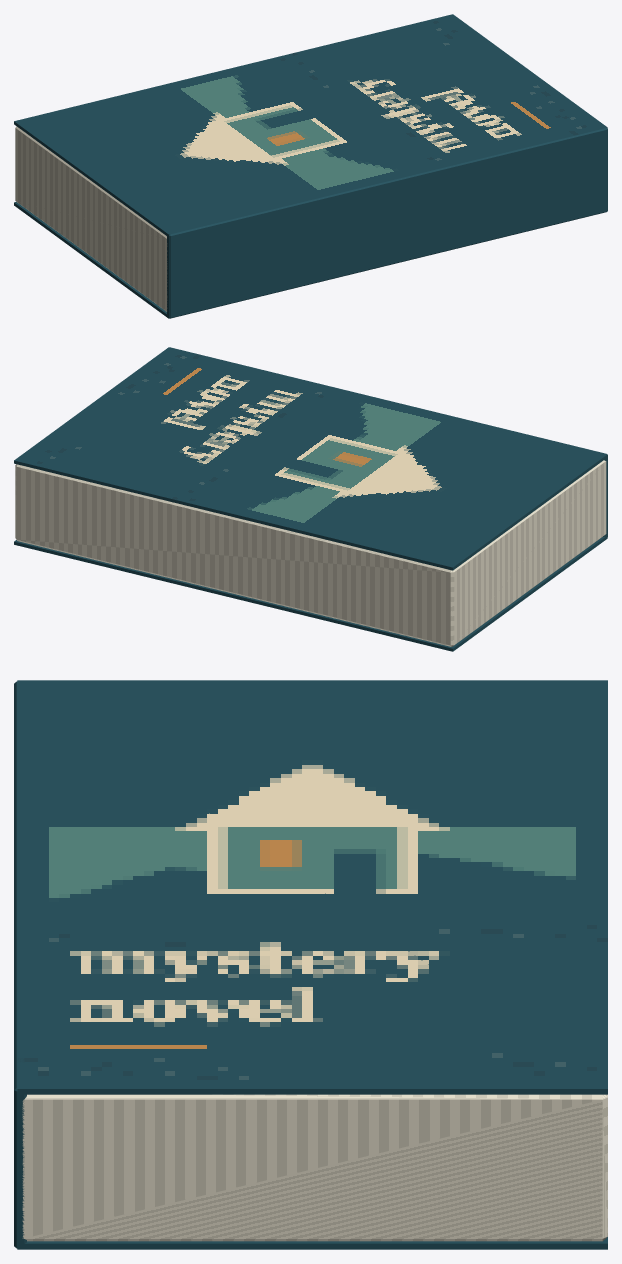
Rendered from novel_mystery.glb.
The picture shows the model from 3 angles, top to bottom: view 1: azimuth 30°, elevation 25°; view 2: azimuth 150°, elevation 25°; view 3: azimuth 270°, elevation 25°; orthographic projection. The views are drawn at different scales.
Parts seen in each view (by area): view 1: block_front, block_spine, block_pages, block_back; view 2: block_front, block_pages, block_back, block_spine; view 3: block_front, block_pages, block_spine, block_back.
Boxes of the visible parts, bbox=[...] form: block_front: bbox=[14, 14, 607, 237]; block_spine: bbox=[167, 128, 607, 318]; block_pages: bbox=[15, 126, 167, 311]; block_back: bbox=[14, 202, 607, 318]; block_front: bbox=[14, 347, 607, 570]; block_pages: bbox=[15, 460, 606, 646]; block_back: bbox=[14, 536, 607, 651]; block_spine: bbox=[168, 347, 607, 536]; block_front: bbox=[17, 680, 607, 1094]; block_pages: bbox=[22, 1094, 607, 1241]; block_spine: bbox=[14, 681, 26, 1248]; block_back: bbox=[17, 1237, 607, 1249].
Size of the model in its own units: 0.18 by 0.033 by 0.1106.
1 material, 1 textured.
